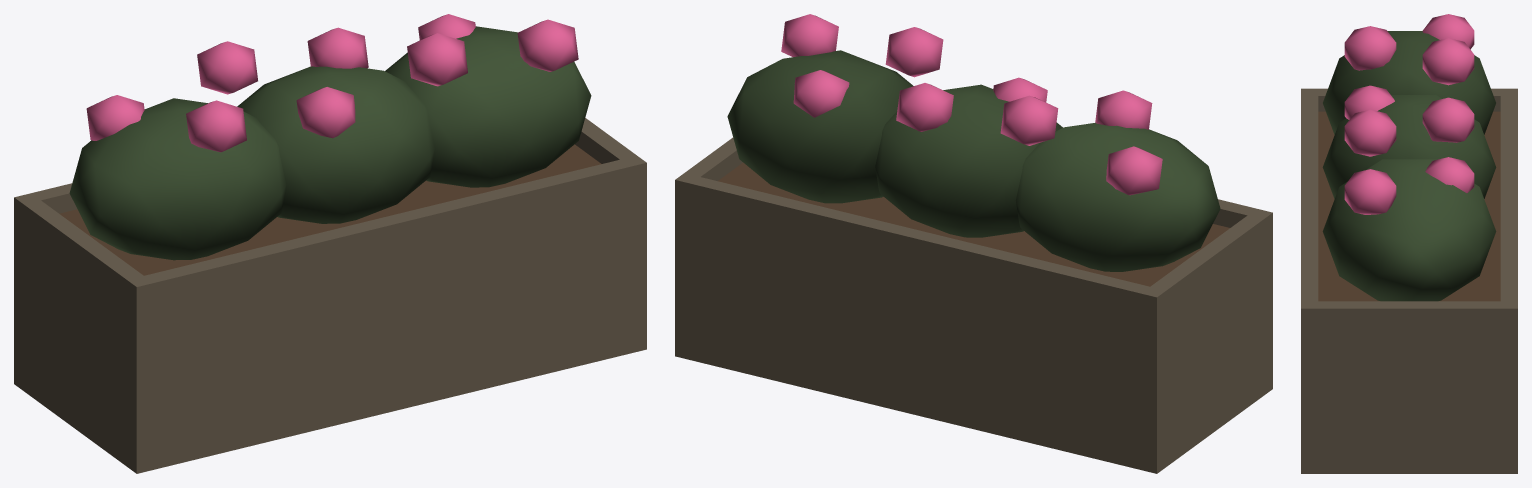
Rendered from scatter4.fbx.
The picture shows the model from 3 angles, left to right: view 1: azimuth 30°, elevation 25°; view 2: azimuth 150°, elevation 25°; view 3: azimuth 270°, elevation 25°; orthographic projection. The views are drawn at different scales.
Parts seen in each view (by area): view 1: a2000/200/scatter4; view 2: a2000/200/scatter4; view 3: a2000/200/scatter4.
Part boxes in pixels (bbox=[...]): a2000/200/scatter4: bbox=[14, 14, 646, 473]; a2000/200/scatter4: bbox=[675, 14, 1272, 473]; a2000/200/scatter4: bbox=[1301, 14, 1517, 473].
Size of the model in its own units: 1.2 by 0.74 by 0.5.
